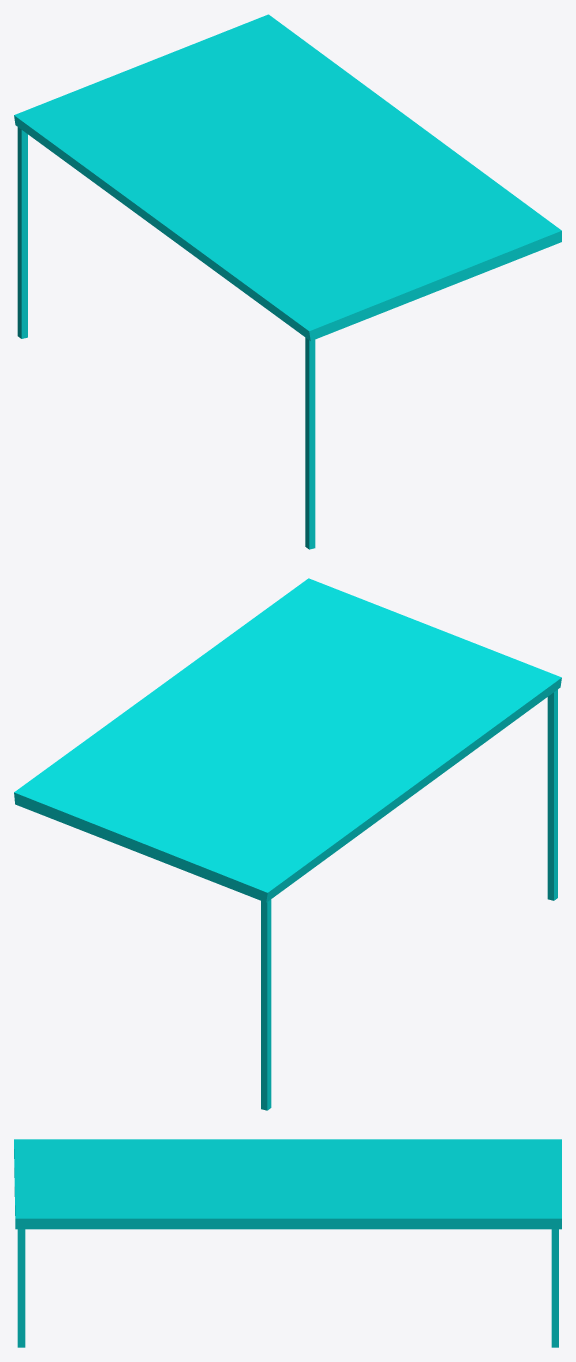
File: SM_Prop_Truck_Awning_01_Collision.fbx
3 views of the same model, one above another, from view 1: azimuth 30°, elevation 25°; view 2: azimuth 150°, elevation 25°; view 3: azimuth 270°, elevation 25° (orthographic). The views are drawn at different scales.
Parts seen in each view (by area): view 1: SM_Prop_Truck_Awning_01_Collision; view 2: SM_Prop_Truck_Awning_01_Collision; view 3: SM_Prop_Truck_Awning_01_Collision.
Boxes of the visible parts, x1=… form: SM_Prop_Truck_Awning_01_Collision: x1=14, y1=14, x2=561, y2=549; SM_Prop_Truck_Awning_01_Collision: x1=14, y1=578, x2=561, y2=1110; SM_Prop_Truck_Awning_01_Collision: x1=14, y1=1139, x2=561, y2=1347.
Size of the model in its own units: 413 by 402 by 830.
